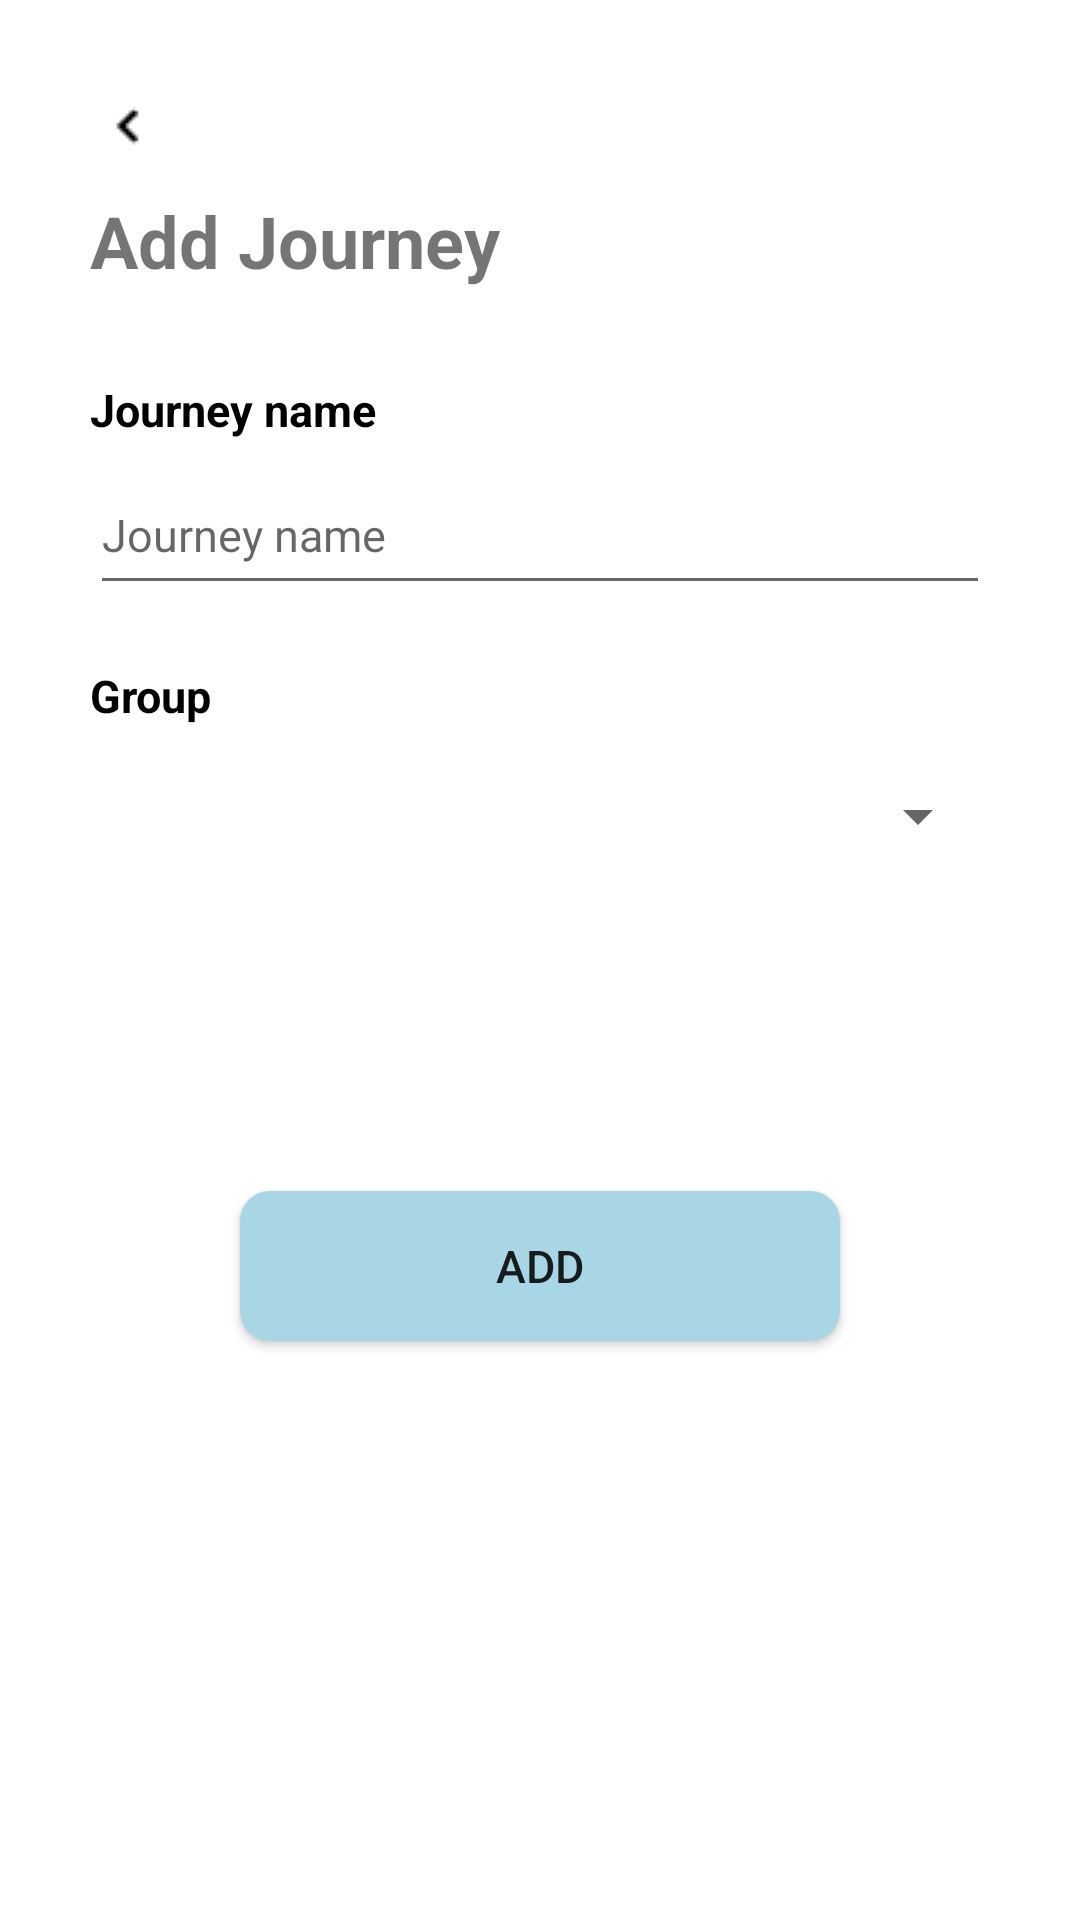

Icons on this 1080px×1920px Android screen, each with the point to tap as [x,y]:
back: [127,126]
